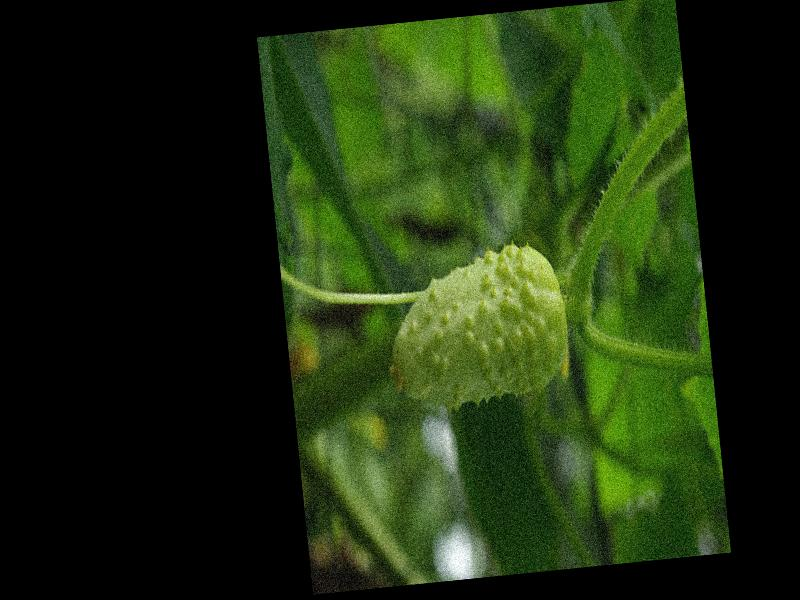Cucumber: (376, 238, 574, 411)
